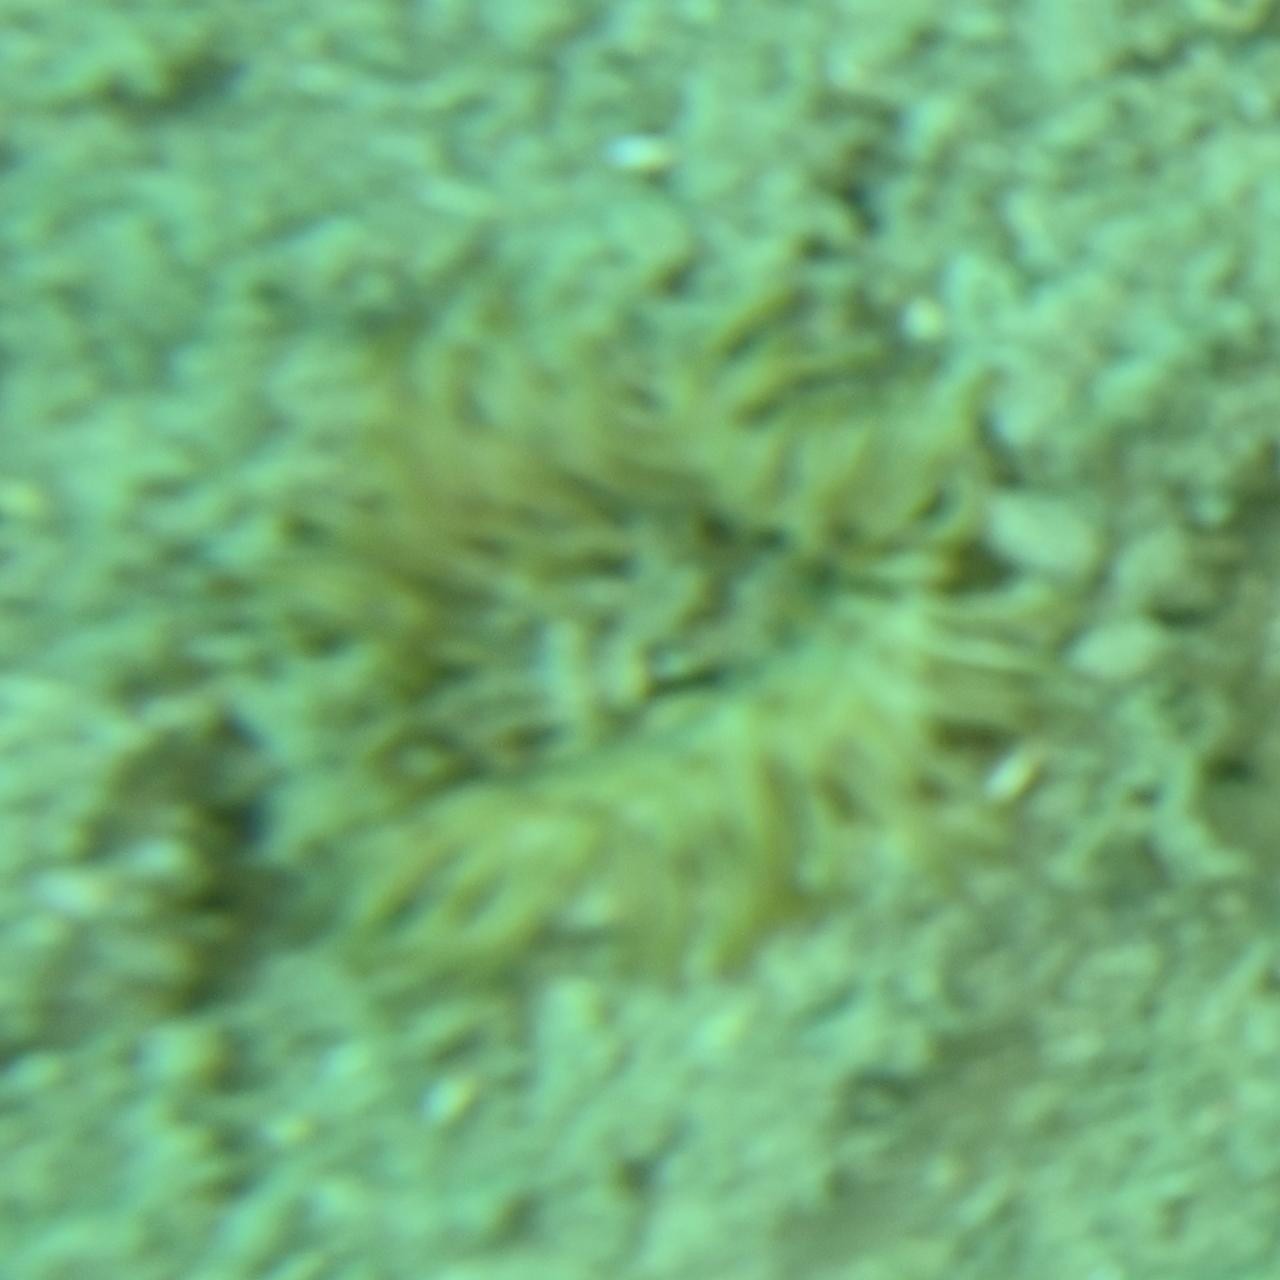Condylactis aurantiaca: (168, 256, 1112, 1024)
